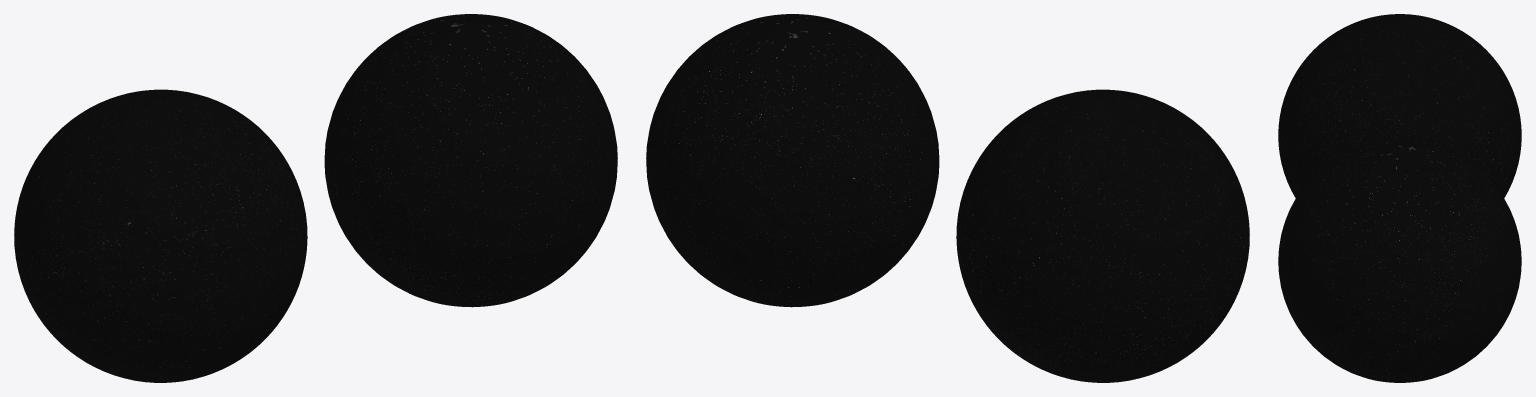
The model's file is space-sphere-ico.glb.
The picture shows the model from 3 angles, left to right: view 1: azimuth 30°, elevation 25°; view 2: azimuth 150°, elevation 25°; view 3: azimuth 270°, elevation 25°; orthographic projection. The views are drawn at different scales.
Visible parts, largest first — view 1: Iкосфера, Сфера; view 2: Iкосфера, Сфера; view 3: Сфера, Iкосфера.
Part boxes in pixels (left/top/right/bottom): Iкосфера: left=14, top=89, right=307, bottom=382; Сфера: left=324, top=14, right=617, bottom=307; Iкосфера: left=956, top=89, right=1249, bottom=382; Сфера: left=646, top=14, right=939, bottom=307; Сфера: left=1278, top=139, right=1521, bottom=382; Iкосфера: left=1278, top=14, right=1521, bottom=198.
Size of the model in its own units: 4.44 by 2 by 2.
Materials: 2 (2 with a texture image).
